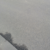others: (1, 22, 26, 49)
